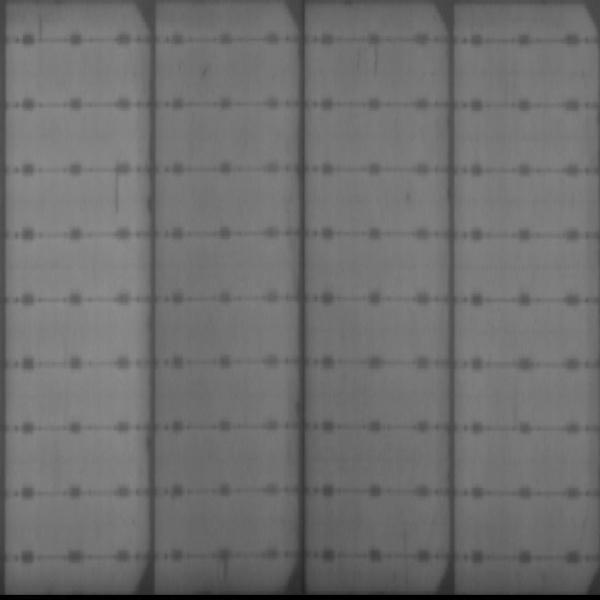scratch: (108, 167, 124, 213), (368, 41, 382, 86), (33, 9, 50, 42)
